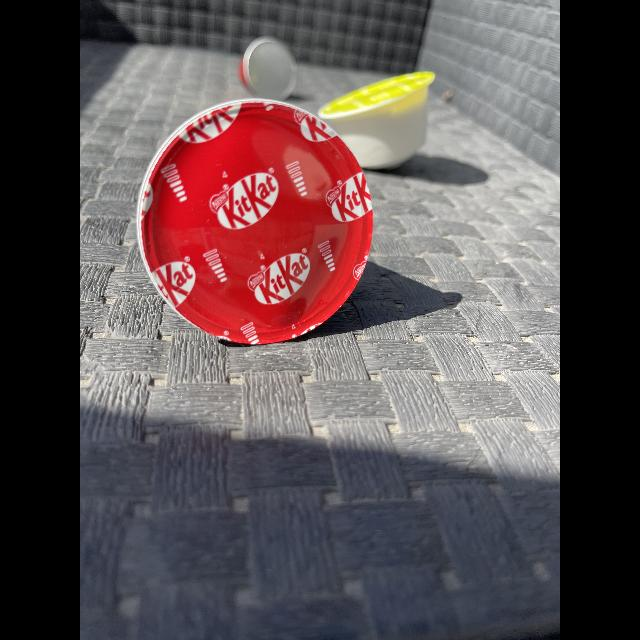intact_capsule: (123, 94, 375, 354), (314, 56, 446, 186)
